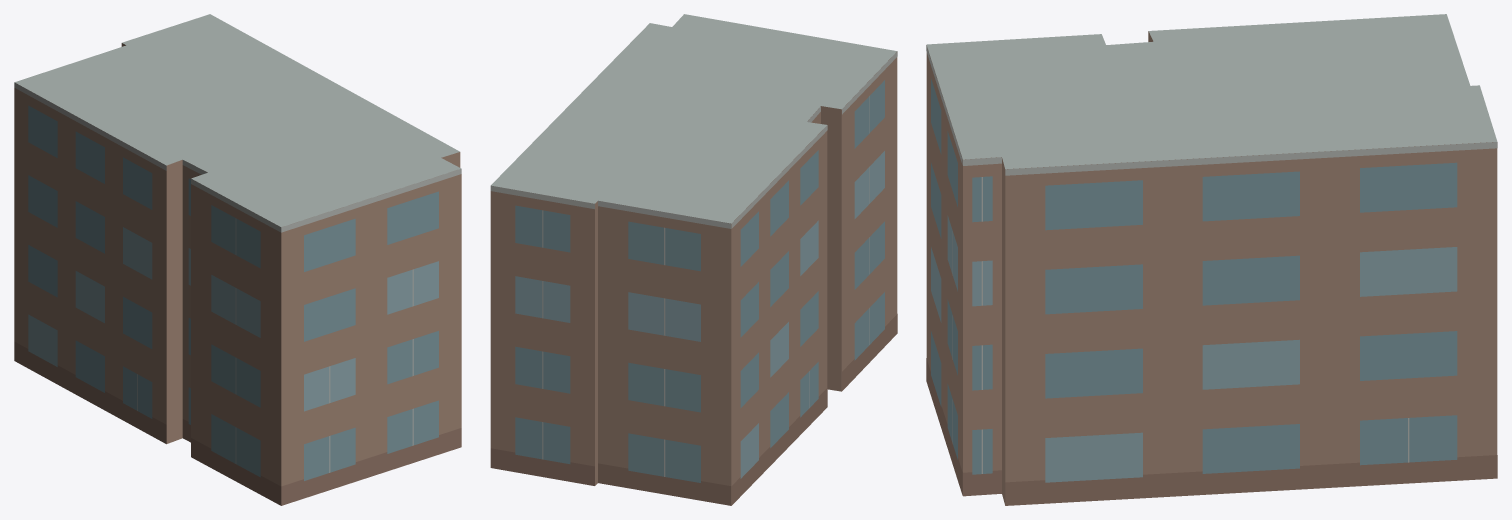
The model's file is survey-upis-32489984.glb.
3 renders of one model, left to right at view 1: azimuth 30°, elevation 25°; view 2: azimuth 150°, elevation 25°; view 3: azimuth 270°, elevation 25°, orthographic. The views are drawn at different scales.
Parts seen in each view (by area): view 1: survey-upis-32489984.tmp; view 2: survey-upis-32489984.tmp; view 3: survey-upis-32489984.tmp.
Boxes of the visible parts, x1,y1,x2,y2 form: survey-upis-32489984.tmp: (14,14,461,505); survey-upis-32489984.tmp: (490,14,897,505); survey-upis-32489984.tmp: (926,14,1497,505).
Bounding box in the file's own units: 12.45 × 12.58 × 19.35.
